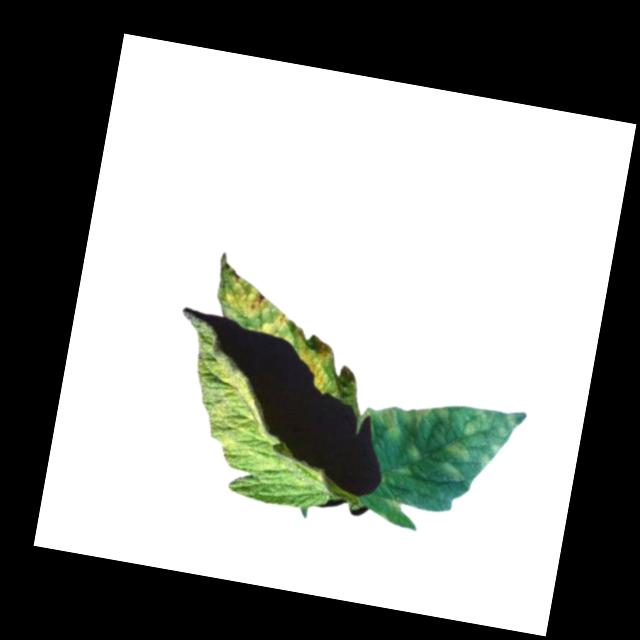Leaf_Mold: (369, 389, 526, 494), (284, 323, 342, 393), (218, 266, 276, 322), (263, 305, 289, 336)
